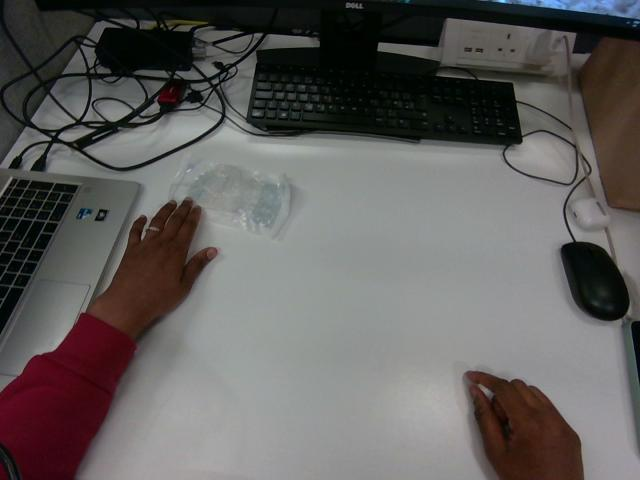gallipot: (170, 159, 289, 237)
